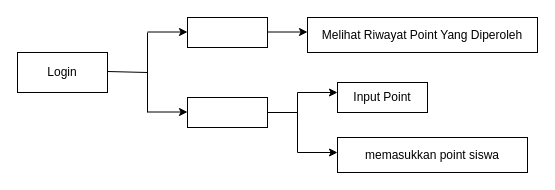
This 555x190 diagram has some shape labels left out. The centre of each missing label's shape, as x and y in pixels:
"Guru" goes at point 227,112.
"Siswa" goes at point 227,32.
